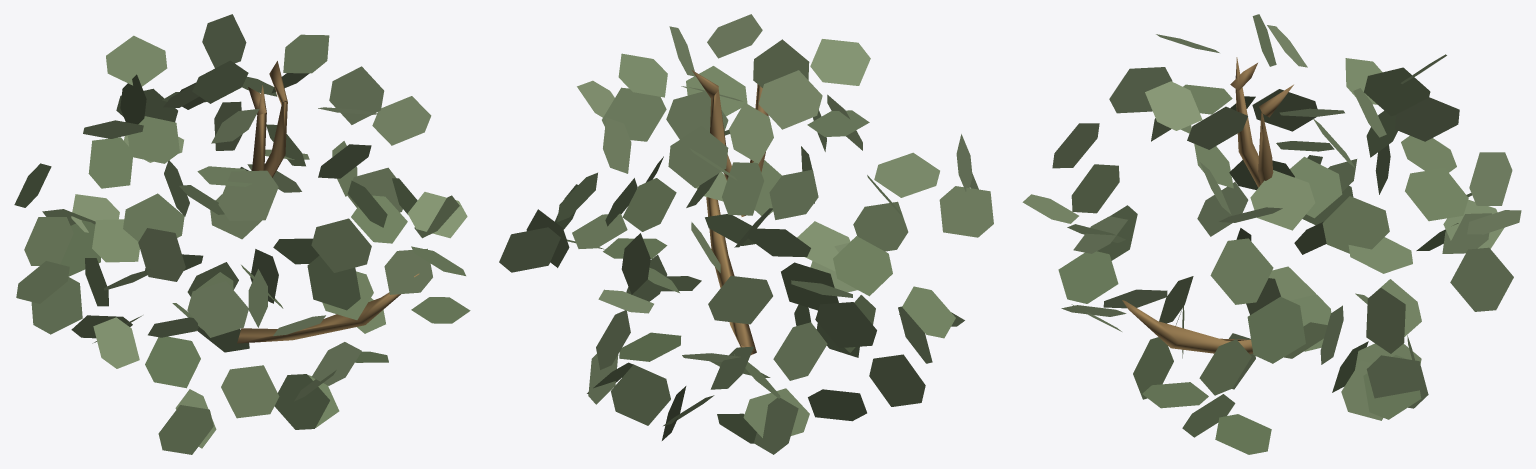
File: sage_shrub_lod2.glb
3 renders of one model, left to right at view 1: azimuth 30°, elevation 25°; view 2: azimuth 150°, elevation 25°; view 3: azimuth 270°, elevation 25°, orthographic. The views are drawn at different scales.
Parts seen in each view (by area): view 1: Leaves.014, Trunk.014; view 2: Leaves.014, Trunk.014; view 3: Leaves.014, Trunk.014.
Part boxes in pixels (x1,y1,x2,y2): Leaves.014: (14, 14, 470, 454); Trunk.014: (237, 61, 419, 343); Leaves.014: (499, 14, 993, 454); Trunk.014: (692, 70, 768, 354); Leaves.014: (1022, 14, 1521, 454); Trunk.014: (1122, 57, 1293, 353).
Bounding box in the file's own units: 1.15 × 1.02 × 1.18.
